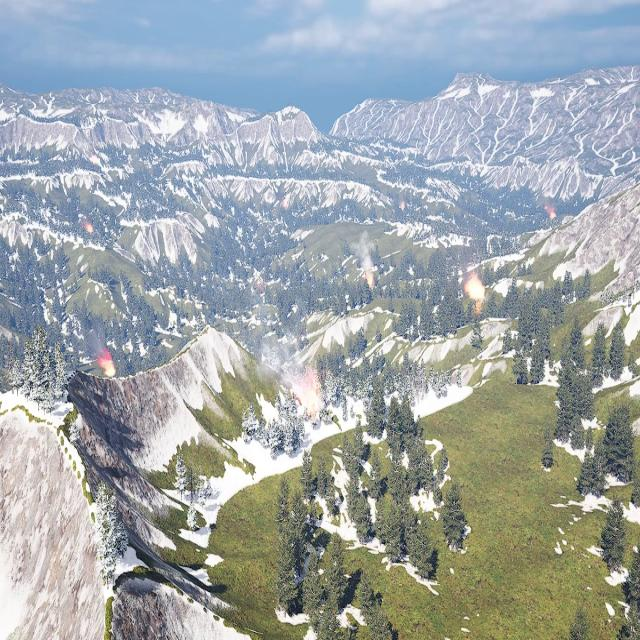fire: (302, 382, 322, 412), (466, 279, 483, 298), (101, 356, 115, 376), (366, 276, 374, 290), (87, 221, 95, 233), (282, 198, 289, 211), (399, 202, 405, 212), (550, 212, 557, 220)
smoke: (259, 337, 308, 390), (356, 230, 373, 272), (84, 331, 106, 360), (464, 254, 483, 282), (542, 188, 554, 215)
